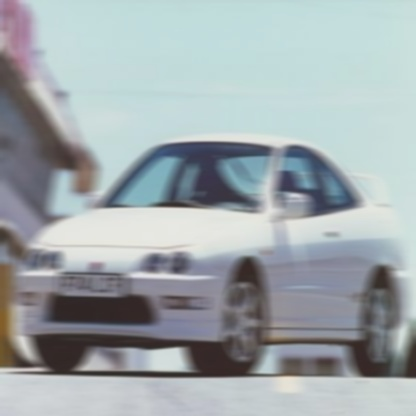Vehicle: (17, 135, 410, 383)
